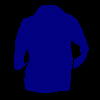felpa: (13, 4, 88, 92)
